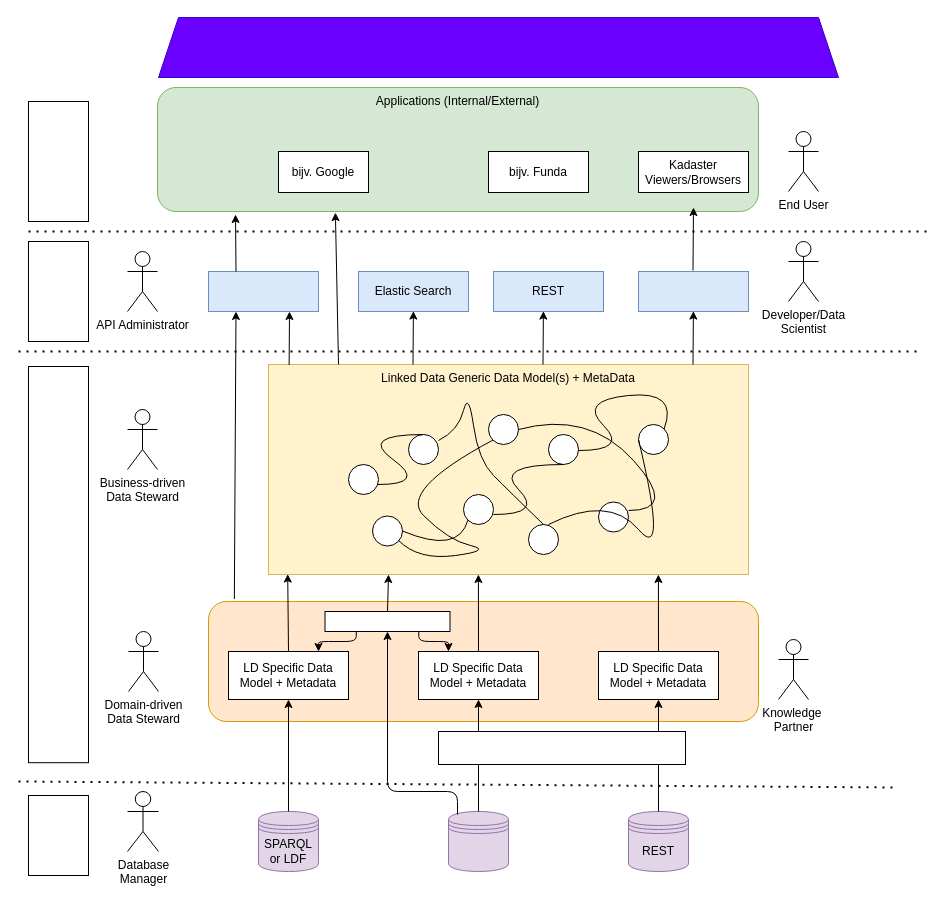
This 947x905 diagram has some shape labels left out. The shapes that lost their labels are listed below. From the top down, each one's centre as x and y in pixels, then its label:
At [498,47]: "Architectuurvisie".
At [58,161]: "Applications".
At [58,291]: "API's".
At [263,291]: "SPARQL".
At [693,291]: "GraphQL".
At [58,564]: "Knowledge Graph".
At [387,621]: "LD Linkset".
At [562,747]: "Semantic Schema and Metadata".
At [58,835]: "Data".
At [478,841]: "SQL".
